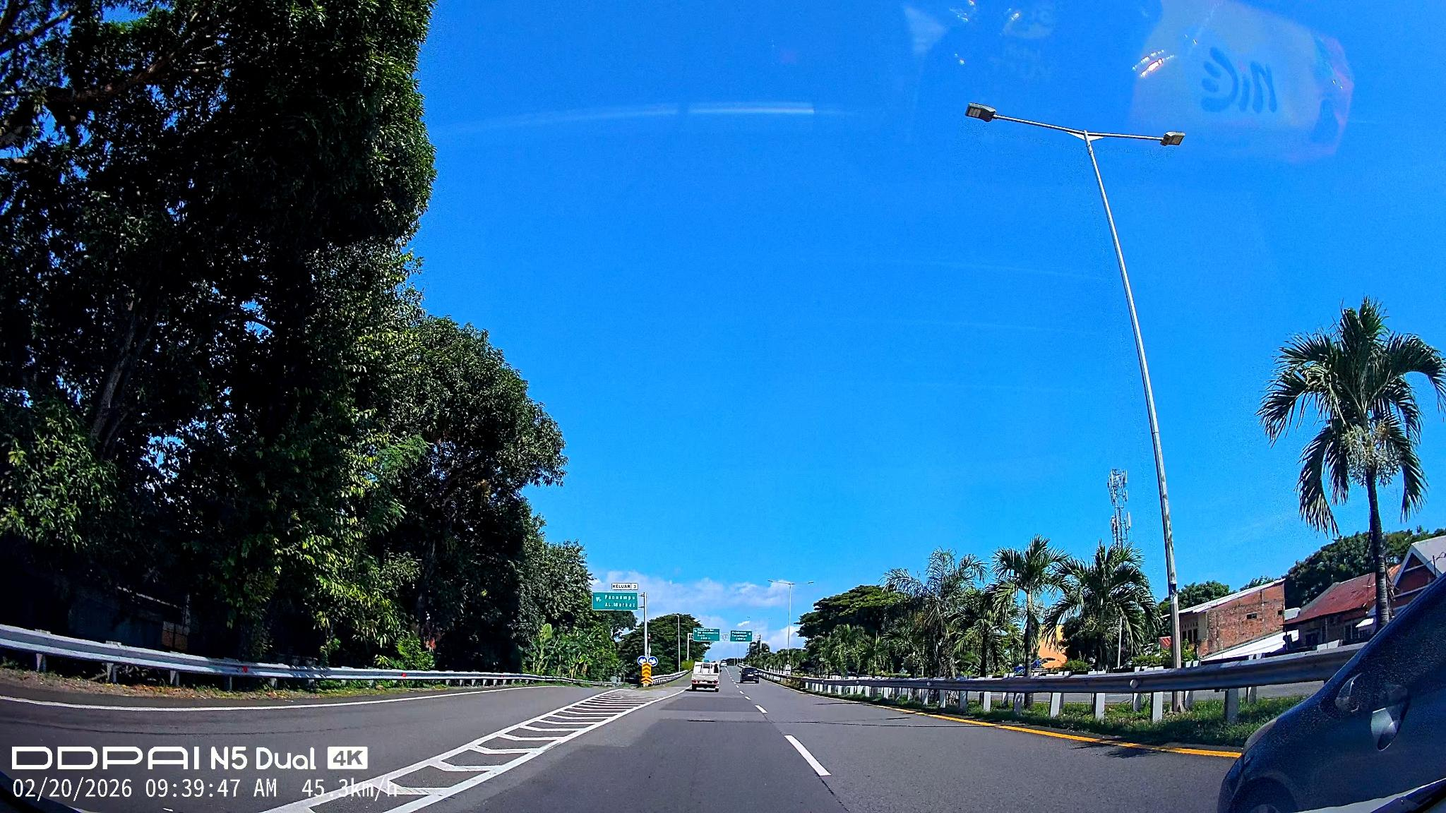rambu_teks: (593, 592, 637, 610)
